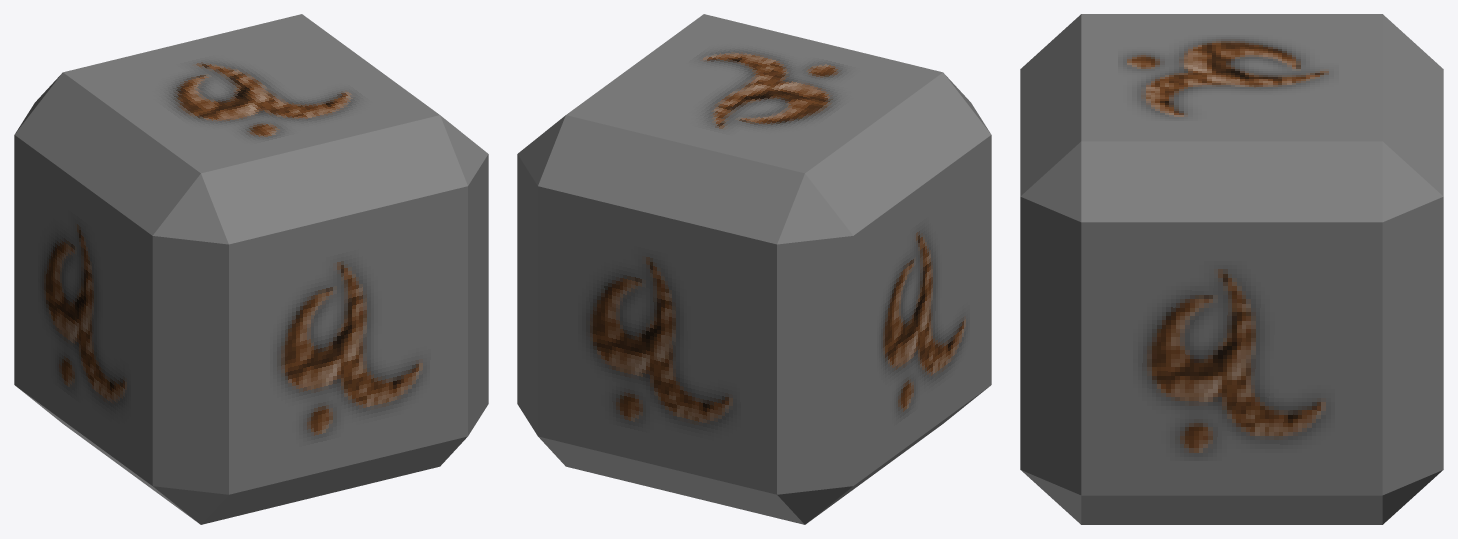
3 renders of one model, left to right at view 1: azimuth 30°, elevation 25°; view 2: azimuth 150°, elevation 25°; view 3: azimuth 270°, elevation 25°, orthographic. The views are drawn at different scales.
Parts seen in each view (by area): view 1: Symbol; view 2: Symbol; view 3: Symbol.
Part boxes in pixels (x1=…): Symbol: x1=14, y1=14, x2=488, y2=524; Symbol: x1=517, y1=14, x2=991, y2=524; Symbol: x1=1020, y1=14, x2=1443, y2=524.
Size of the model in its own units: 200 by 200 by 200.
